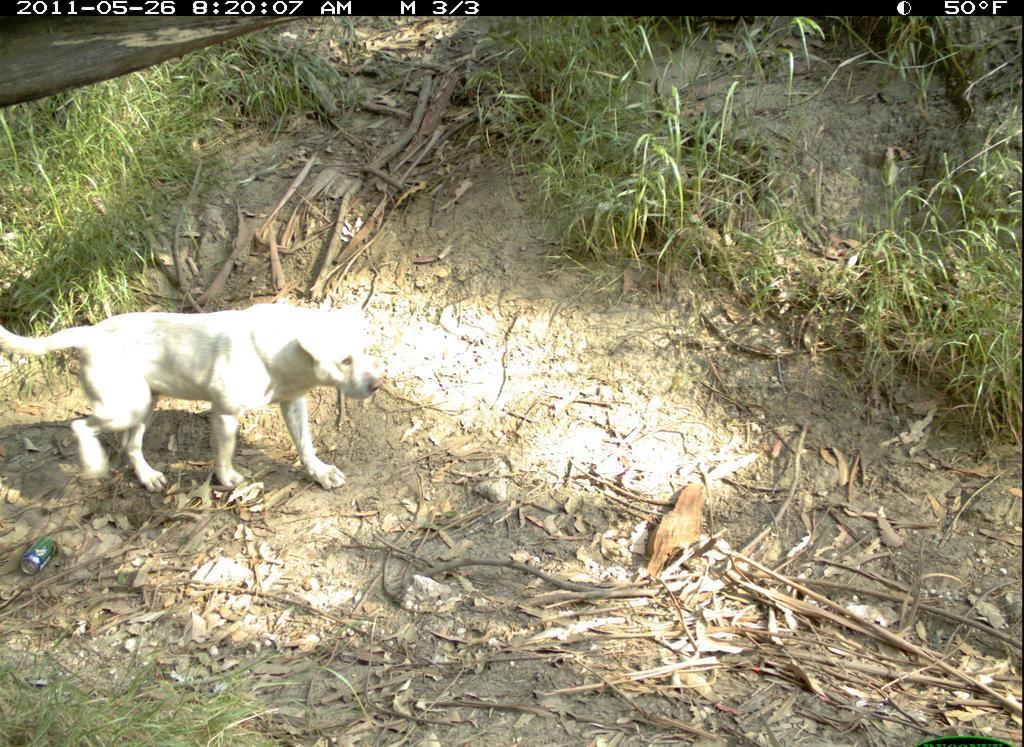dog: (2, 280, 409, 524)
